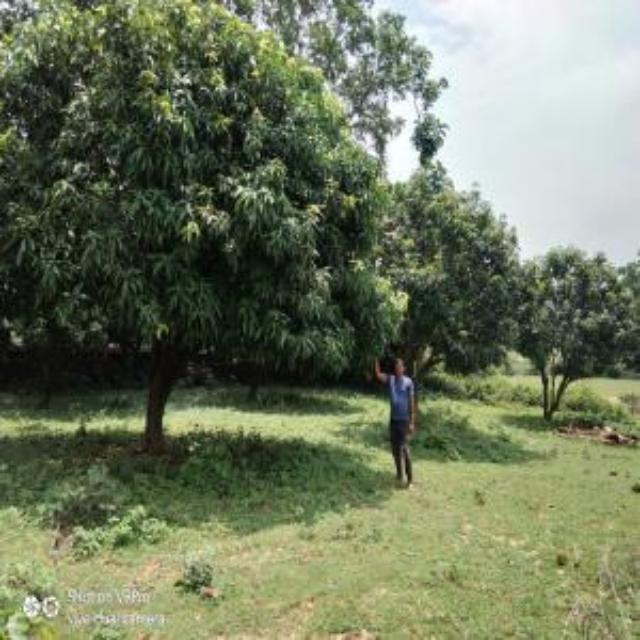tree: (4, 2, 410, 458), (376, 160, 522, 438), (514, 244, 638, 428)
